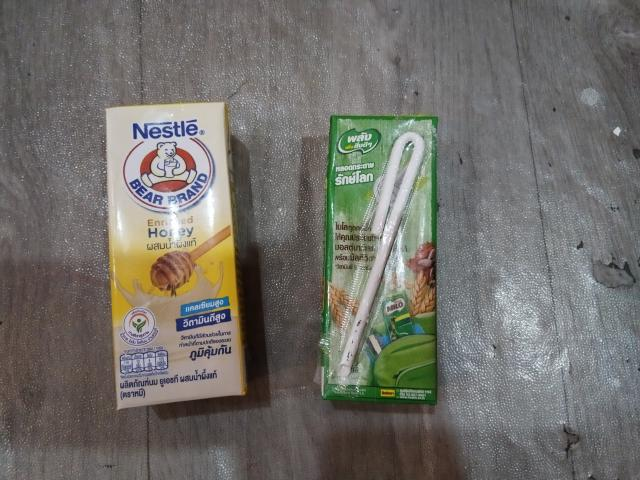drink_box: (104, 100, 247, 404), (324, 108, 448, 411)
